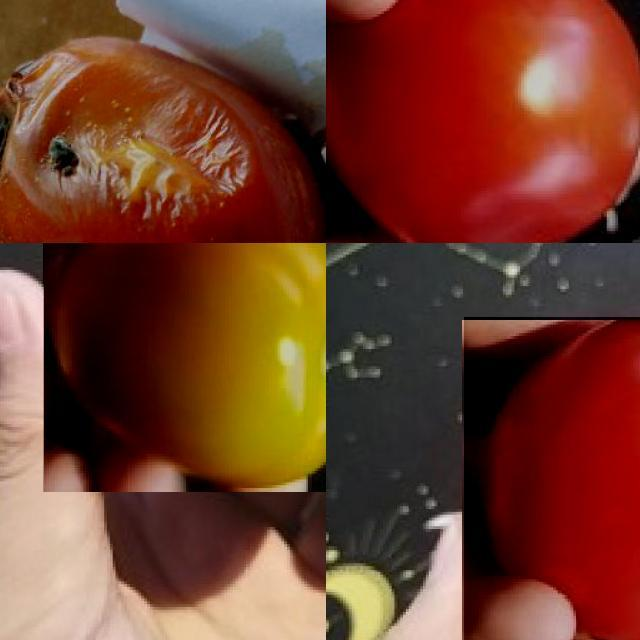Fresh Tomato: (326, 0, 640, 243), (43, 243, 326, 492), (464, 317, 640, 640)
Rotten Tomato: (0, 0, 326, 243)
